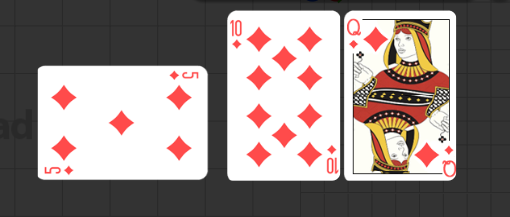10D: (230, 19, 244, 51)
9D: (43, 164, 76, 176)
QD: (400, 134, 444, 181), (333, 14, 377, 60)
